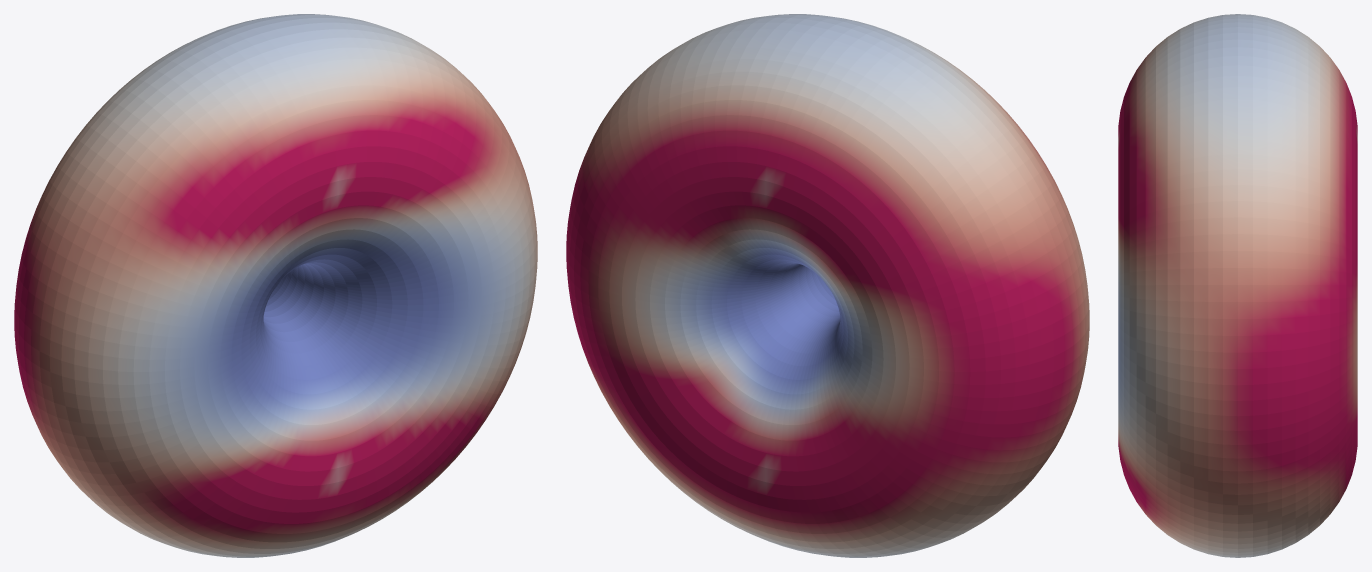
The picture shows the model from 3 angles, left to right: view 1: azimuth 30°, elevation 25°; view 2: azimuth 150°, elevation 25°; view 3: azimuth 270°, elevation 25°; orthographic projection. The views are drawn at different scales.
Parts seen in each view (by area): view 1: world; view 2: world; view 3: world.
Part boxes in pixels (bbox=[...]): world: bbox=[14, 14, 537, 557]; world: bbox=[566, 14, 1089, 557]; world: bbox=[1118, 14, 1357, 557].
Size of the model in its own units: 20.27 by 20.27 by 8.92.
